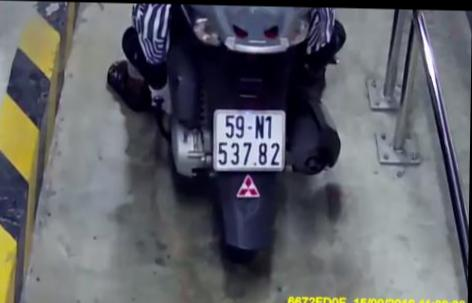LP: (212, 104, 291, 173)
